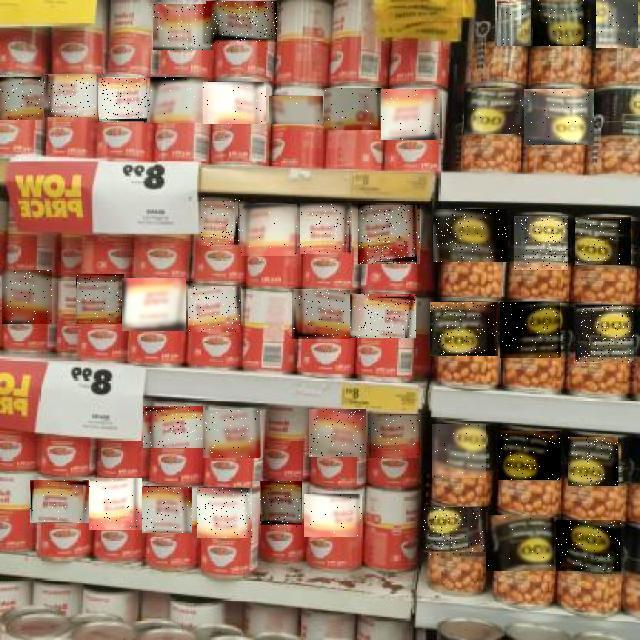Beans: (434, 209, 510, 262), (524, 89, 594, 145), (486, 515, 554, 571), (358, 204, 420, 264), (431, 302, 499, 356), (574, 305, 634, 363), (122, 278, 186, 331), (500, 302, 560, 358), (556, 520, 621, 571), (423, 508, 488, 556), (382, 89, 442, 140), (498, 431, 560, 480), (206, 2, 277, 44), (144, 77, 208, 123), (514, 216, 568, 270), (432, 425, 486, 479), (241, 204, 297, 256), (350, 294, 416, 338), (154, 4, 216, 50), (293, 290, 351, 339), (464, 88, 524, 134), (89, 478, 142, 530), (197, 488, 252, 538), (309, 409, 366, 457), (203, 410, 260, 458), (2, 271, 52, 325), (575, 217, 631, 265), (300, 203, 352, 254), (203, 82, 266, 124), (30, 480, 90, 523), (534, 0, 590, 46), (143, 406, 203, 448), (304, 494, 362, 537), (568, 437, 618, 486), (188, 286, 241, 332), (324, 88, 382, 130), (76, 274, 124, 324), (142, 487, 192, 533), (98, 78, 150, 122), (368, 414, 420, 458), (44, 74, 96, 117), (597, 0, 639, 48), (202, 197, 242, 246), (260, 482, 302, 528), (0, 77, 43, 120), (495, 0, 531, 46), (269, 96, 323, 124)
